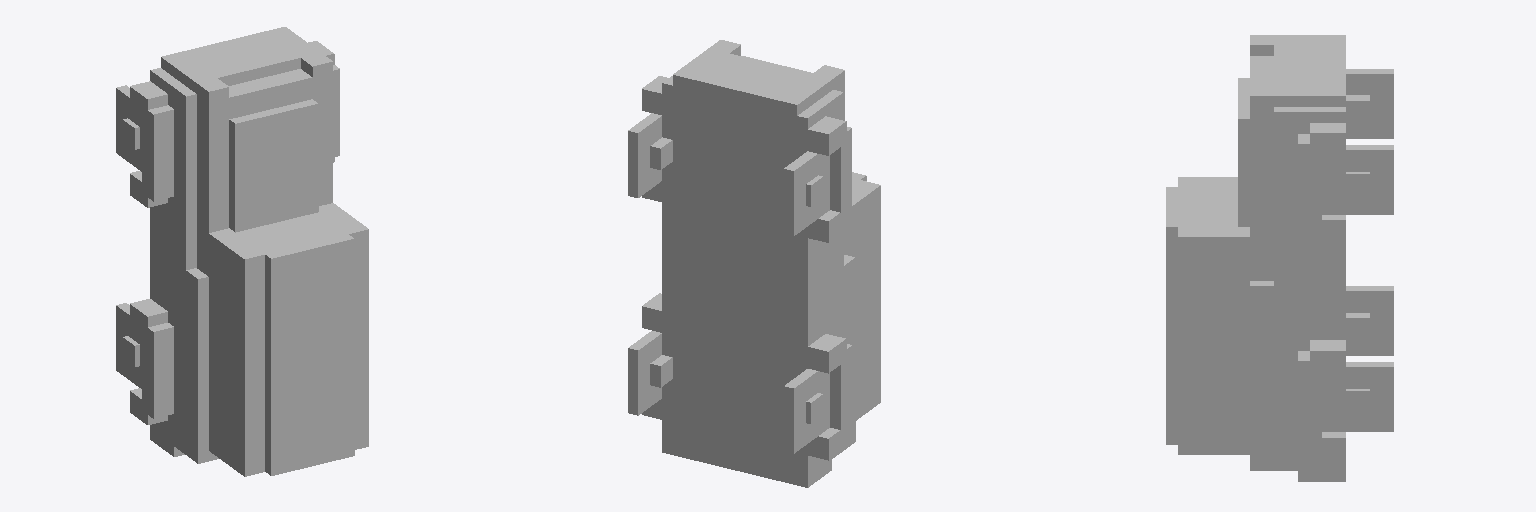
File: car.obj
3 renders of one model, left to right at view 1: azimuth 30°, elevation 25°; view 2: azimuth 150°, elevation 25°; view 3: azimuth 270°, elevation 25°, orthographic.
Parts seen in each view (by area): view 1: mesh_0; view 2: mesh_0; view 3: mesh_0.
Part boxes in pixels (bbox=[...]): mesh_0: bbox=[116, 27, 368, 476]; mesh_0: bbox=[628, 40, 880, 487]; mesh_0: bbox=[1166, 35, 1393, 481].
Size of the model in its own units: 1.57 by 3.06 by 1.66.